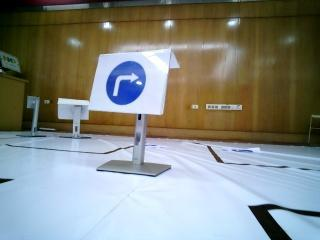right: (100, 55, 153, 106)
